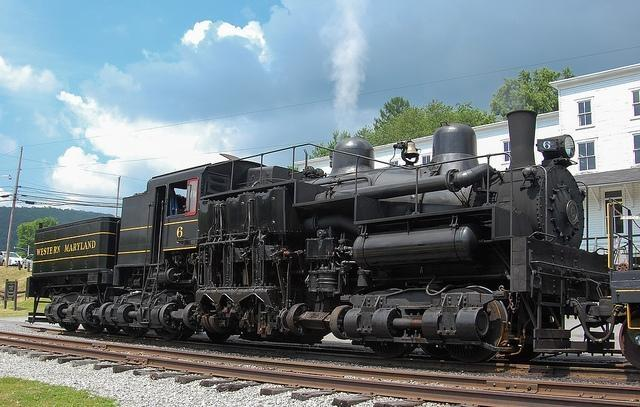car: (0, 250, 23, 266)
